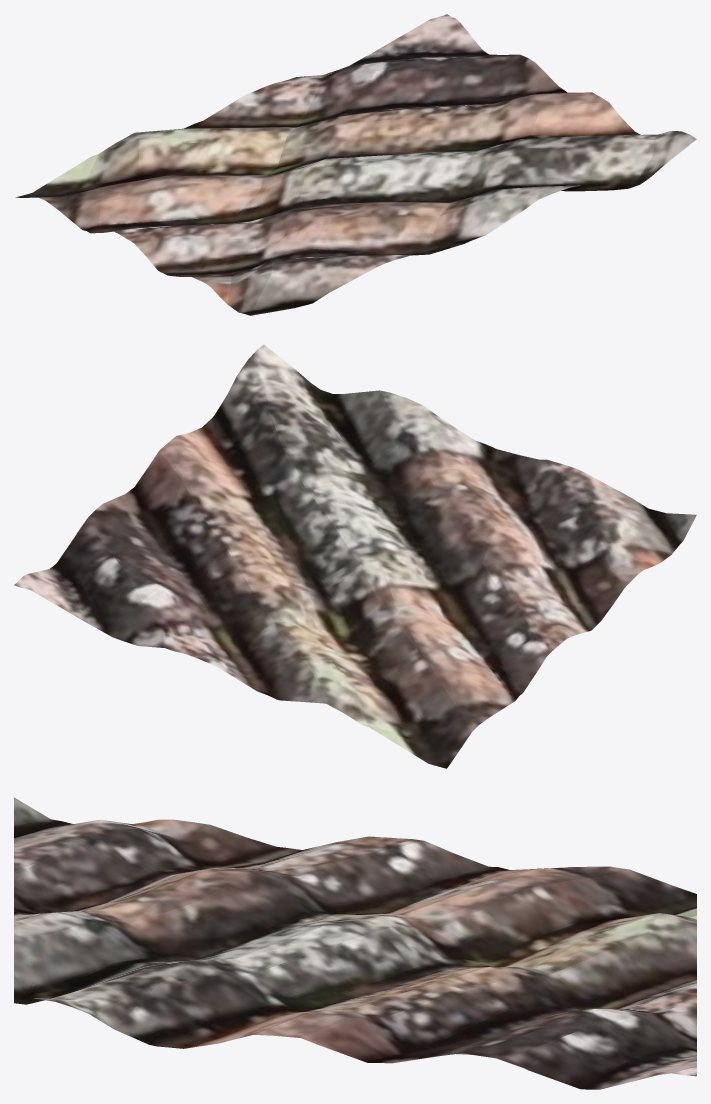
3 views of the same model, one above another, from view 1: azimuth 30°, elevation 25°; view 2: azimuth 150°, elevation 25°; view 3: azimuth 270°, elevation 25° (orthographic). The views are drawn at different scales.
Bounding box in the file's own units: 0.8374 × 0.2511 × 0.8373.
Materials: 3 (3 with a texture image).
